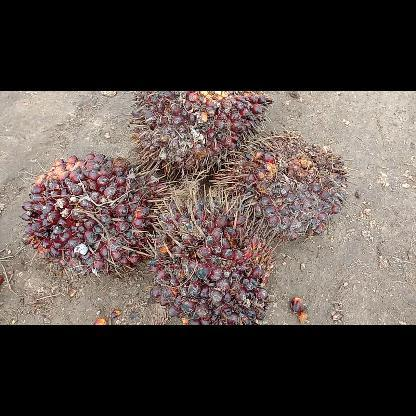TBS masak: (20, 152, 176, 276), (148, 184, 278, 324), (212, 126, 356, 240), (126, 91, 270, 177)
